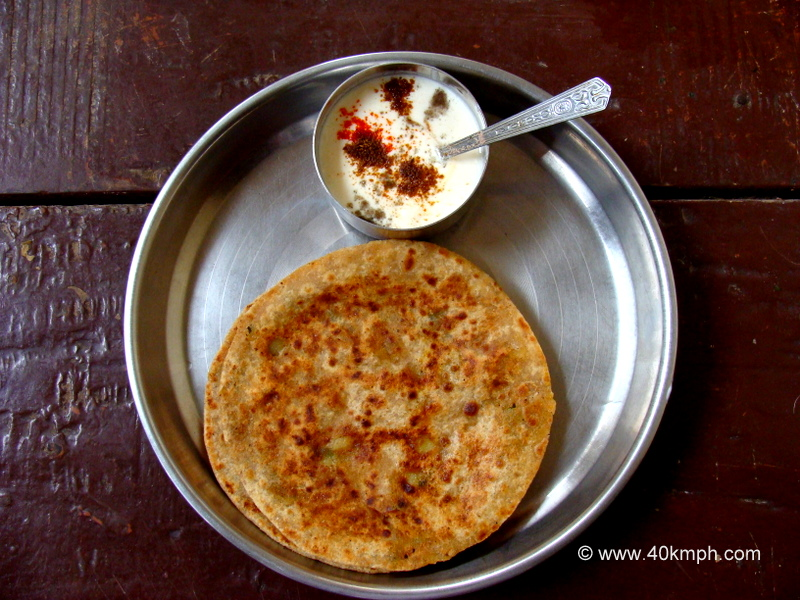aloo_paratha: (201, 239, 557, 576)
